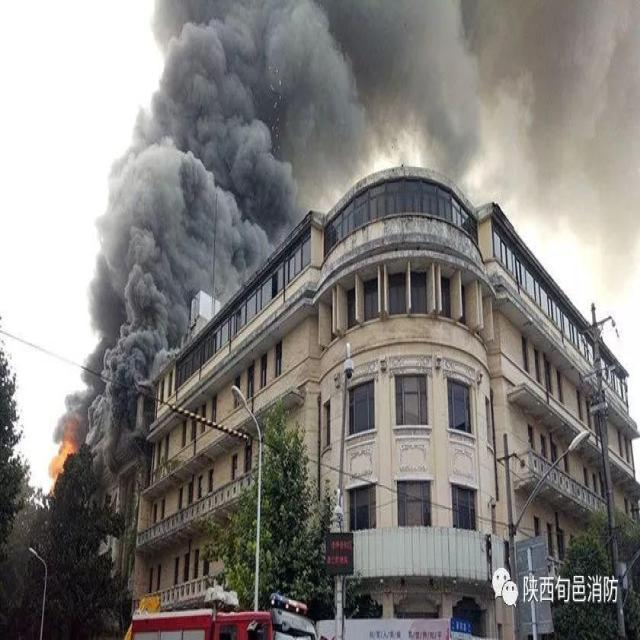Fire: (47, 436, 78, 498)
Smoke: (52, 1, 640, 471)
